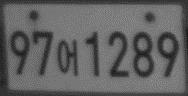1: (84, 29, 100, 77)
2: (107, 30, 131, 78)
7: (31, 29, 54, 76)
8: (131, 30, 154, 77)
9: (156, 30, 179, 78), (8, 29, 31, 76)
어: (57, 38, 79, 78)
